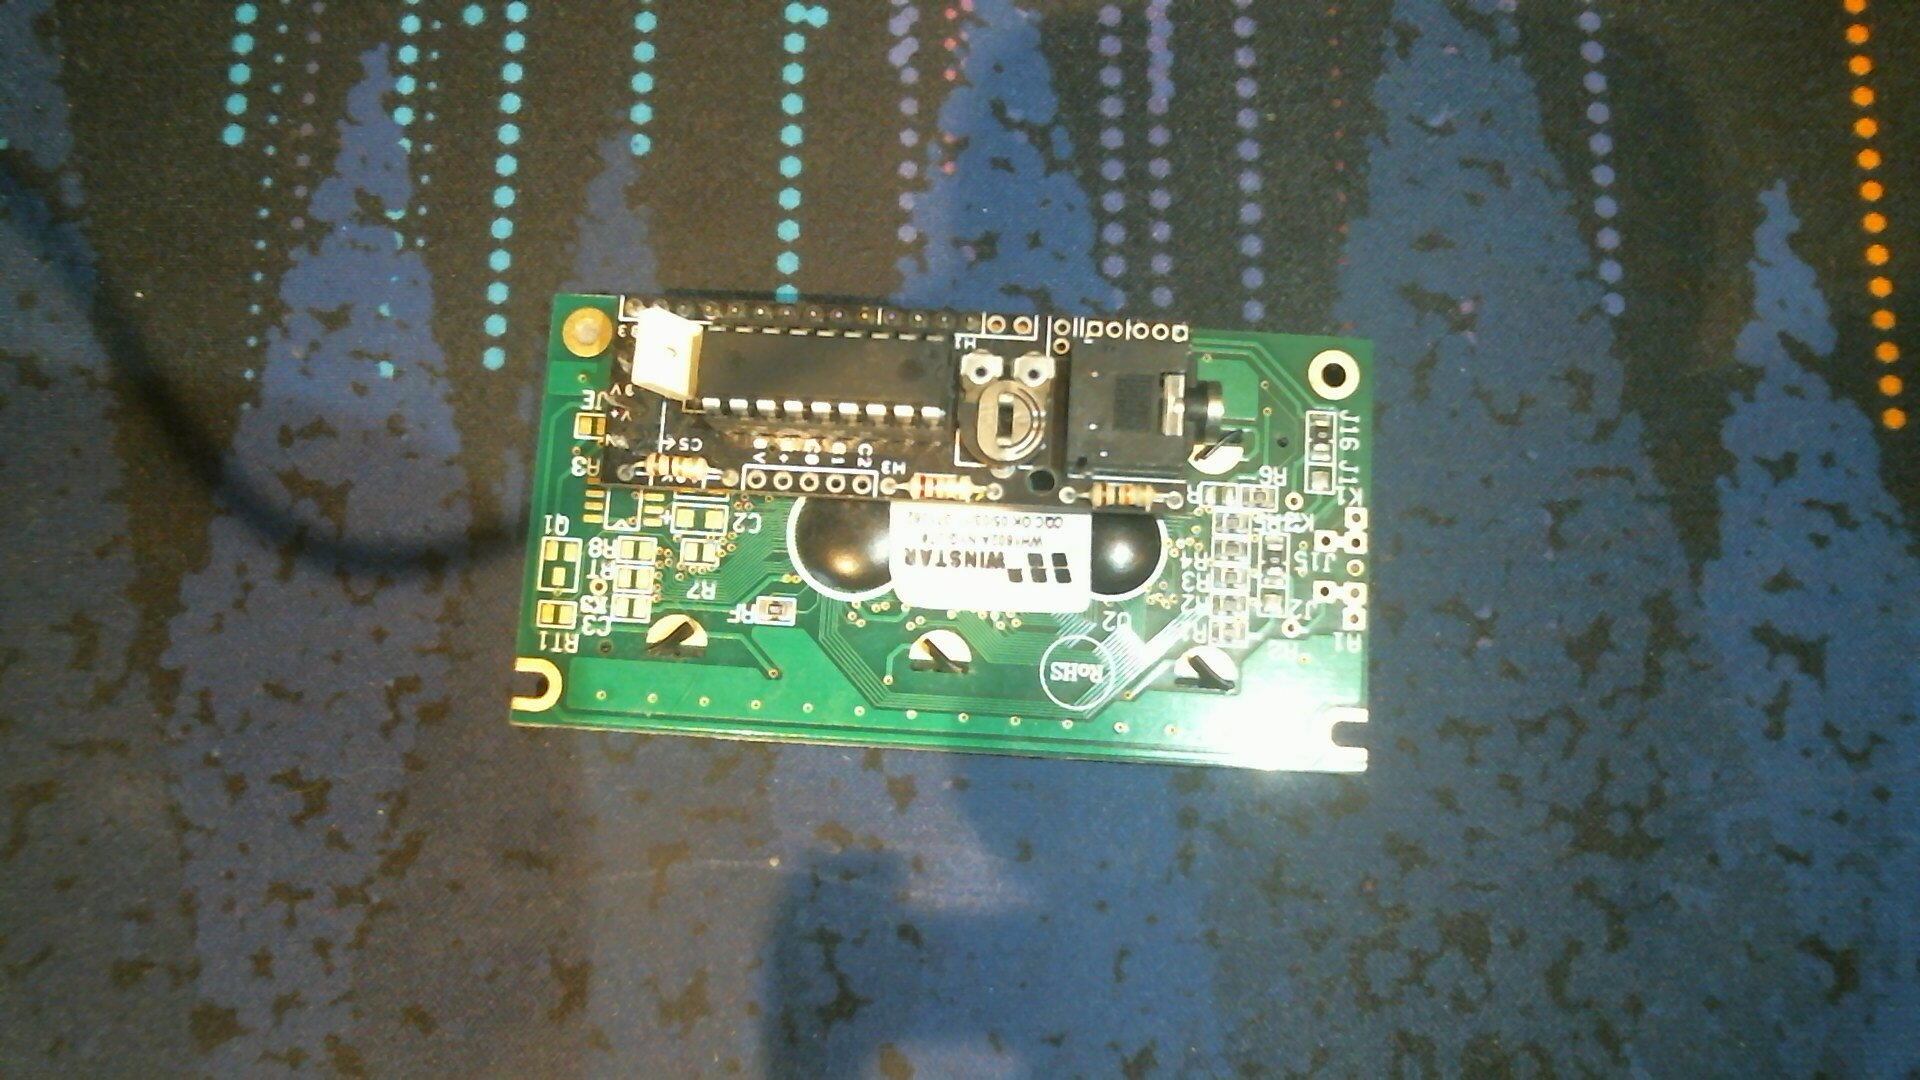resistor: (895, 469, 1000, 504), (632, 448, 723, 487), (1071, 480, 1178, 512)
